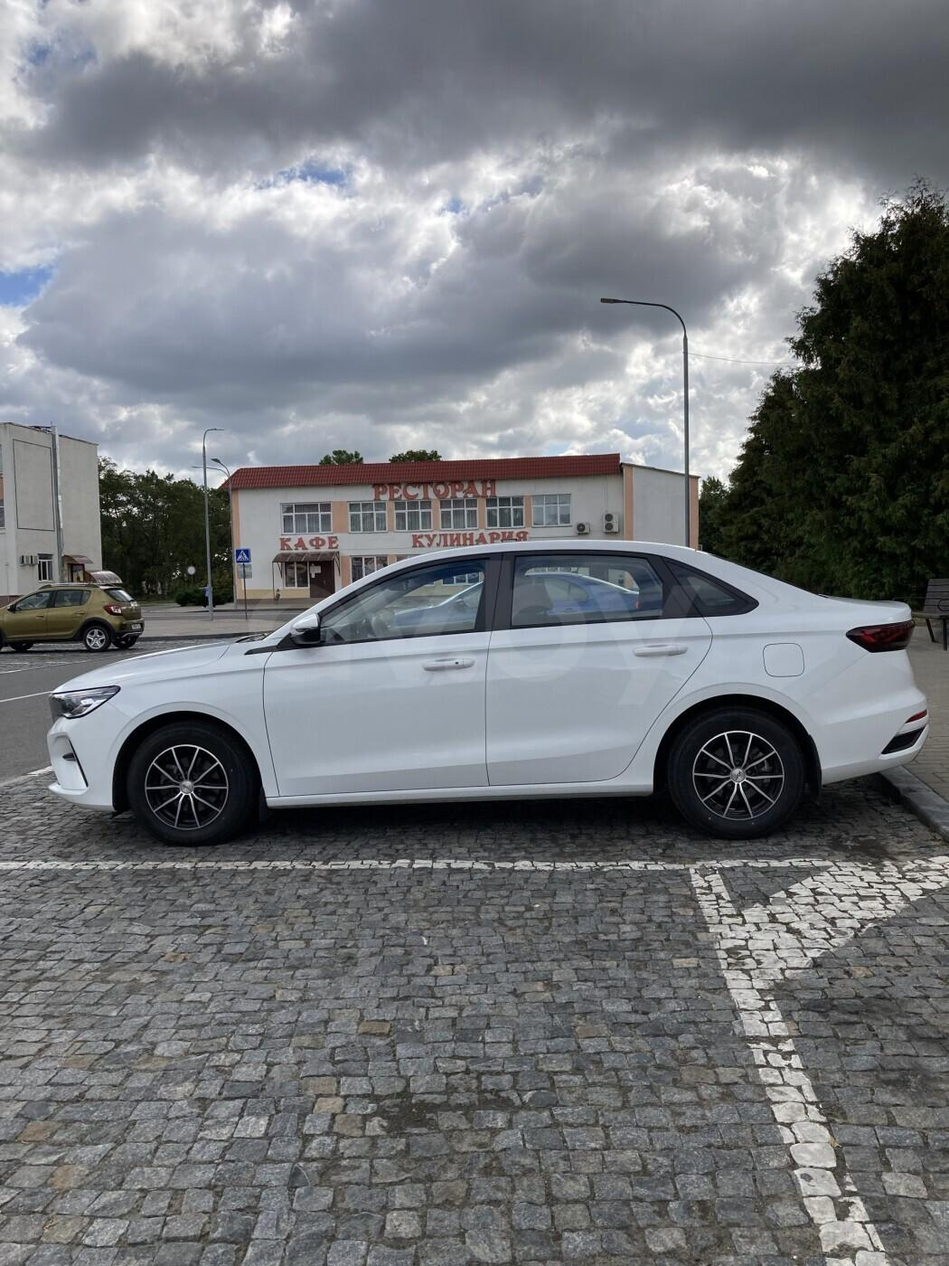Emgrand_2021: (36, 539, 935, 848)
